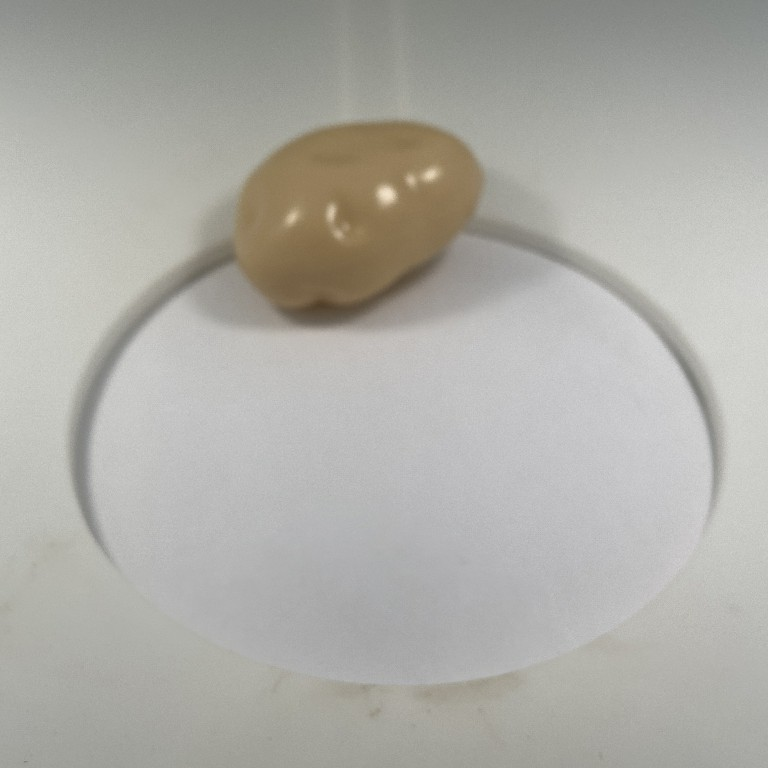fruit_potato: (221, 109, 505, 334)
